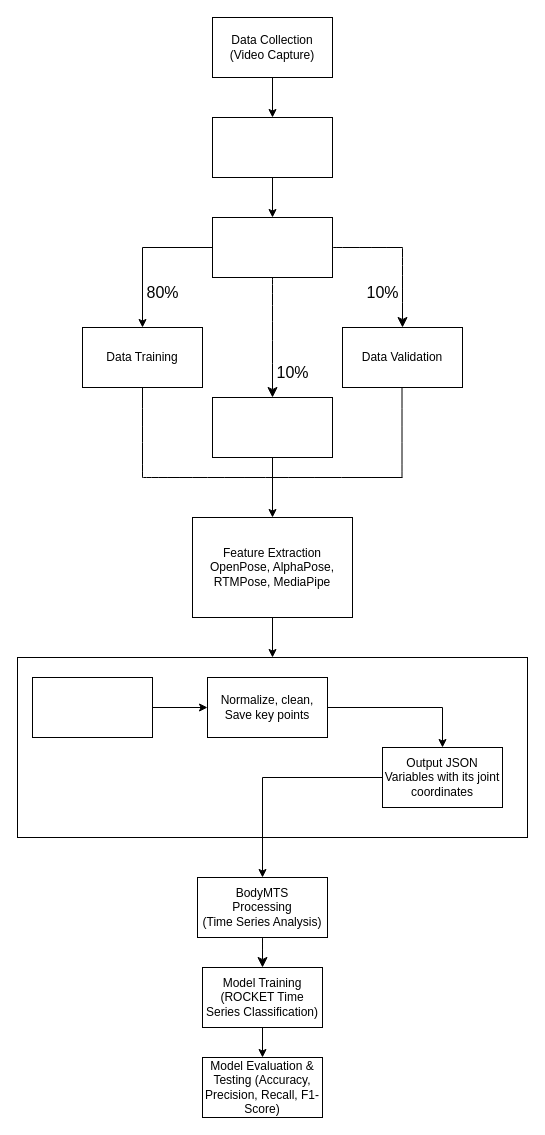
Image size: 545x1135. Some labels were removed from this diagram. The shapes that lost their labels are listed below. From the top down, each one's centre as x and y in pixels, then its label:
At (272,147): "Data Preprocessing (convert videos to frames FFmpeg)".
At (272,247): "Data Split 80:10:10".
At (272,427): "Data Testing".
At (92,707): "Model estimates the user pose".
